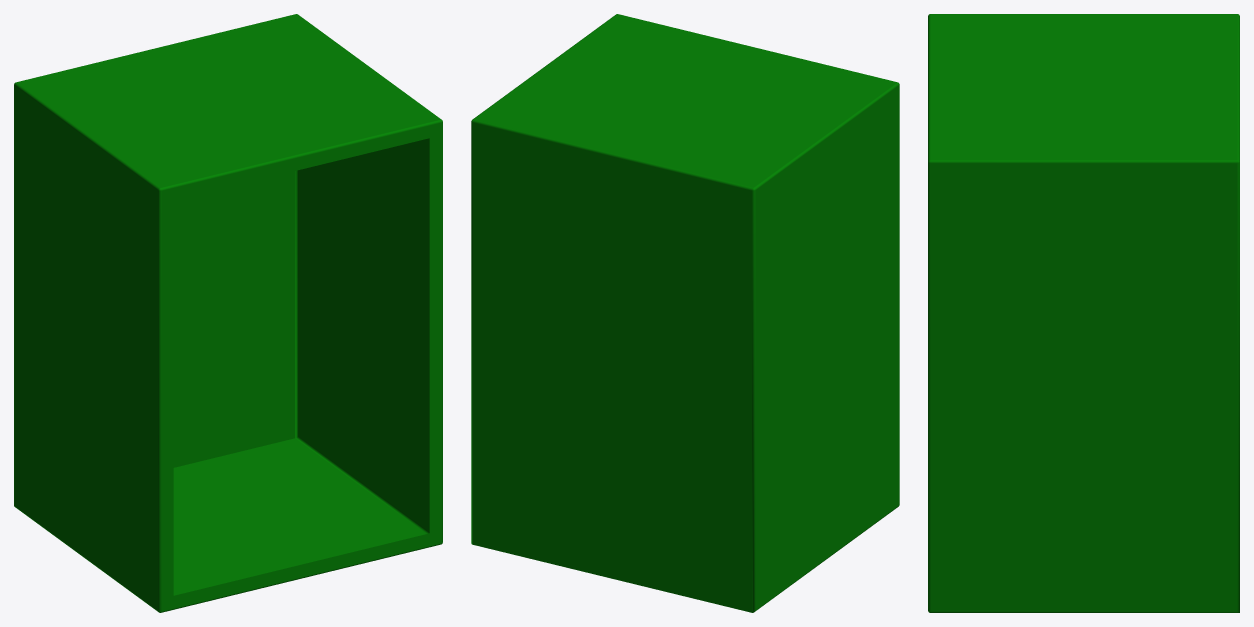
The model's file is original-1.obj.
The picture shows the model from 3 angles, left to right: view 1: azimuth 30°, elevation 25°; view 2: azimuth 150°, elevation 25°; view 3: azimuth 270°, elevation 25°; orthographic projection. The views are drawn at different scales.
Visible parts, largest first — view 1: #ID116; view 2: #ID116; view 3: #ID116.
Boxes of the visible parts, left/top/right/bottom form: #ID116: left=14, top=14, right=442, bottom=612; #ID116: left=471, top=14, right=899, bottom=612; #ID116: left=928, top=14, right=1239, bottom=612.
Bounding box in the file's own units: 1.04 × 1.48 × 0.924.
